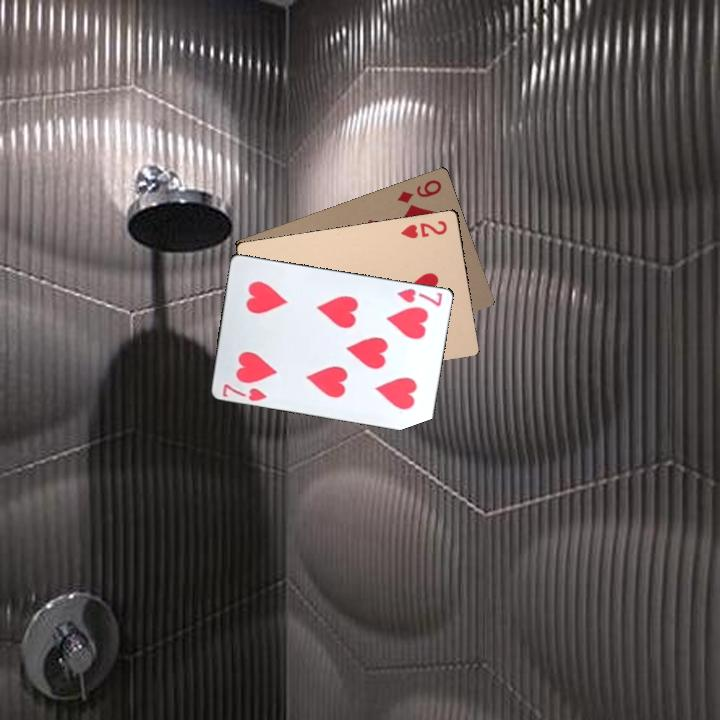2h: (397, 216, 450, 241)
7h: (393, 284, 445, 309), (218, 380, 269, 404)
9d: (393, 175, 444, 205)
